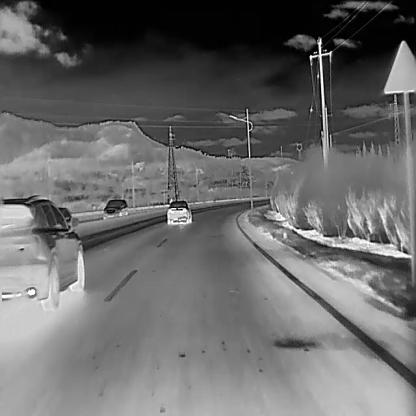car: (0, 194, 86, 310), (166, 199, 191, 224), (101, 198, 127, 219)
